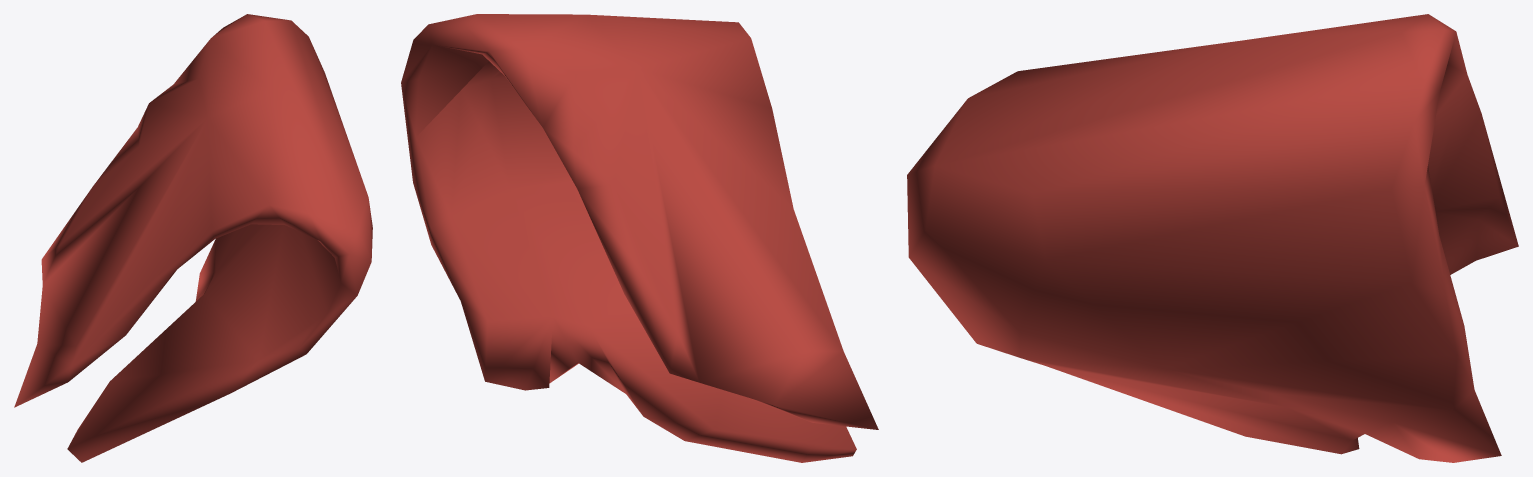
File: musculos-intermediate-tendon-of-digastric-muscle-l.glb
The picture shows the model from 3 angles, left to right: view 1: azimuth 30°, elevation 25°; view 2: azimuth 150°, elevation 25°; view 3: azimuth 270°, elevation 25°; orthographic projection. The views are drawn at different scales.
Parts seen in each view (by area): view 1: Intermediate tendon of digastric muscle.l; view 2: Intermediate tendon of digastric muscle.l; view 3: Intermediate tendon of digastric muscle.l.
Boxes of the visible parts, box(x1,y1,x2,y2) form: Intermediate tendon of digastric muscle.l: box(14, 14, 372, 462); Intermediate tendon of digastric muscle.l: box(401, 14, 878, 462); Intermediate tendon of digastric muscle.l: box(907, 14, 1518, 462).
Bounding box in the file's own units: 0.0079 × 0.00749 × 0.00712.
